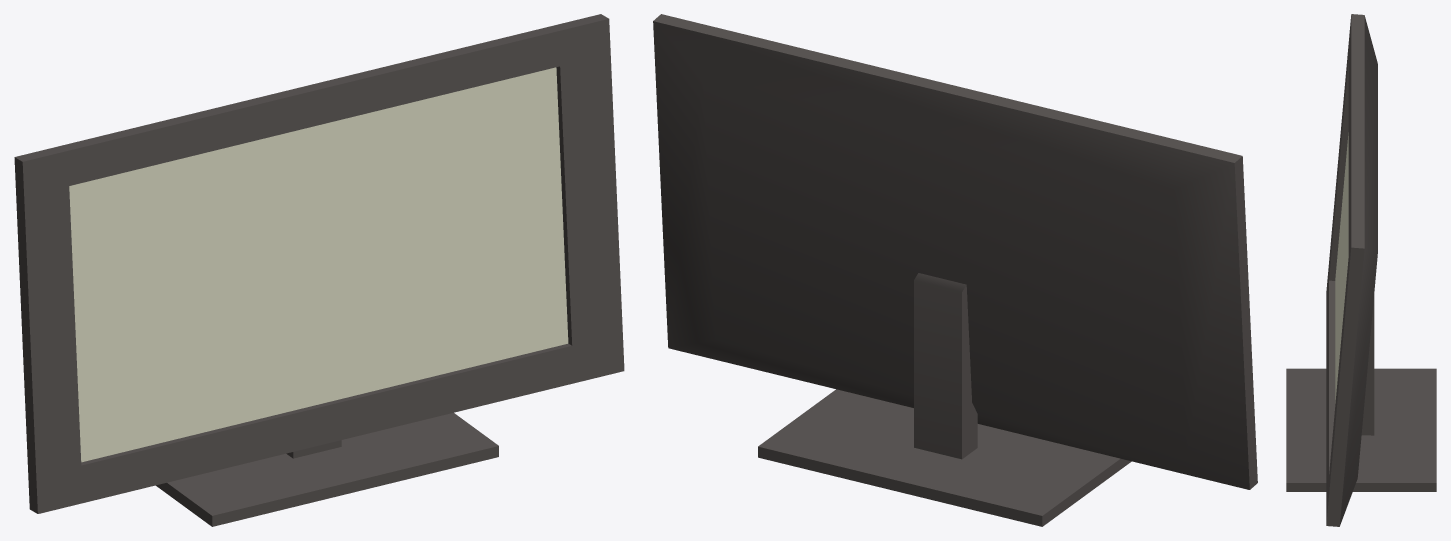
File: FlatScreen.fbx
3 renders of one model, left to right at view 1: azimuth 30°, elevation 25°; view 2: azimuth 150°, elevation 25°; view 3: azimuth 270°, elevation 25°, orthographic. The views are drawn at different scales.
Visible parts, largest first — view 1: pCube3; view 2: pCube3; view 3: pCube3.
Boxes of the visible parts, box(x1,y1,x2,y2) form: pCube3: box(14, 14, 624, 526); pCube3: box(653, 14, 1257, 526); pCube3: box(1286, 14, 1436, 526).
Size of the model in its own units: 2.13 by 1.29 by 0.5792.
